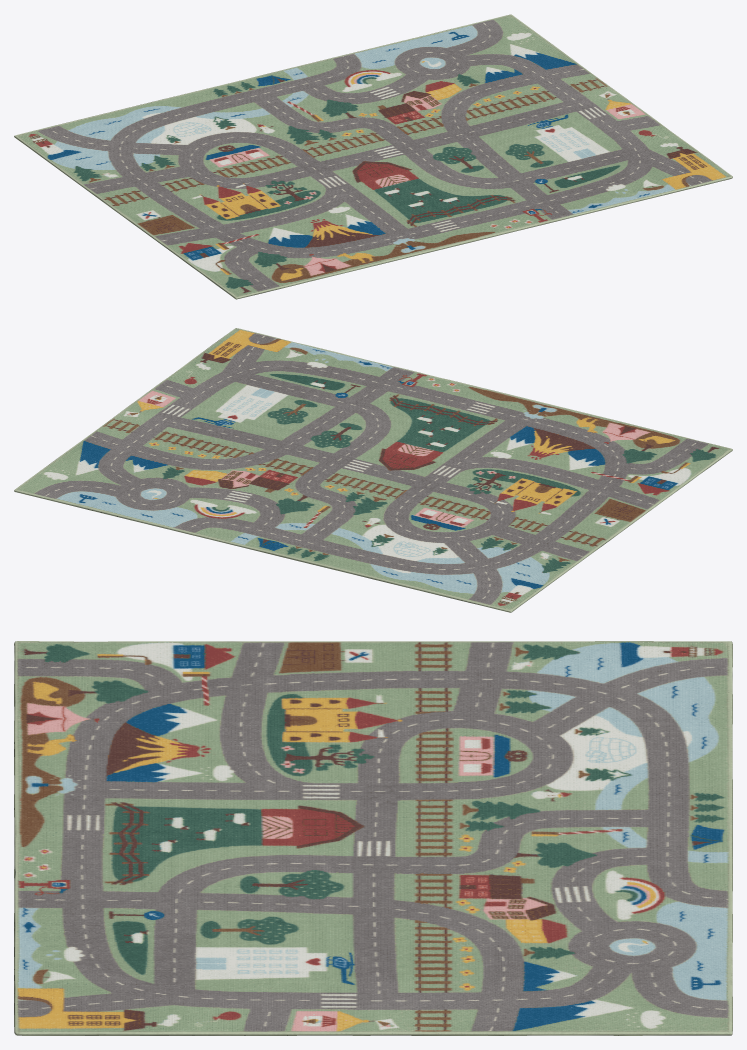
File: vallaby_dywan_10548216.glb
3 renders of one model, top to bottom at view 1: azimuth 30°, elevation 25°; view 2: azimuth 150°, elevation 25°; view 3: azimuth 270°, elevation 25°, orthographic. The views are drawn at different scales.
Parts seen in each view (by area): view 1: vallaby_dywan_10548216; view 2: vallaby_dywan_10548216; view 3: vallaby_dywan_10548216.
Boxes of the visible parts, x1,y1,x2,y2 form: vallaby_dywan_10548216: [14, 14, 732, 299]; vallaby_dywan_10548216: [14, 328, 732, 612]; vallaby_dywan_10548216: [14, 641, 732, 1035].
Bounding box in the file's own units: 1.33 × 0.00566 × 1.03.
Materials: 1 (1 with a texture image).
